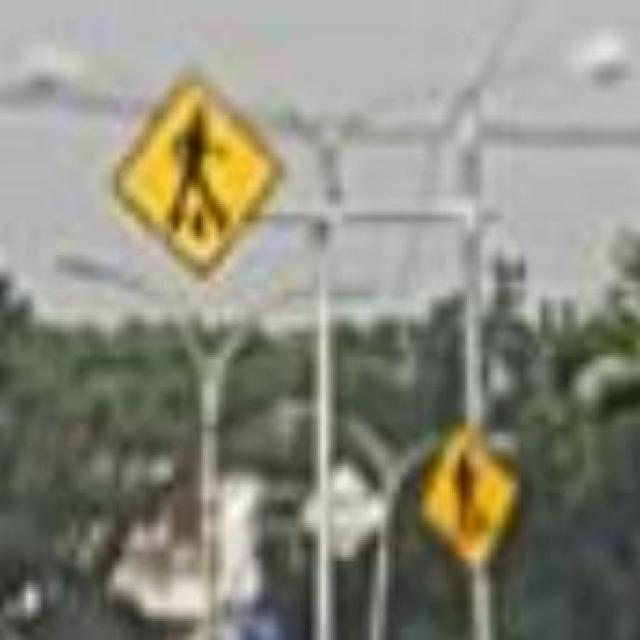traffic sign: (108, 76, 279, 268), (428, 432, 518, 564)
